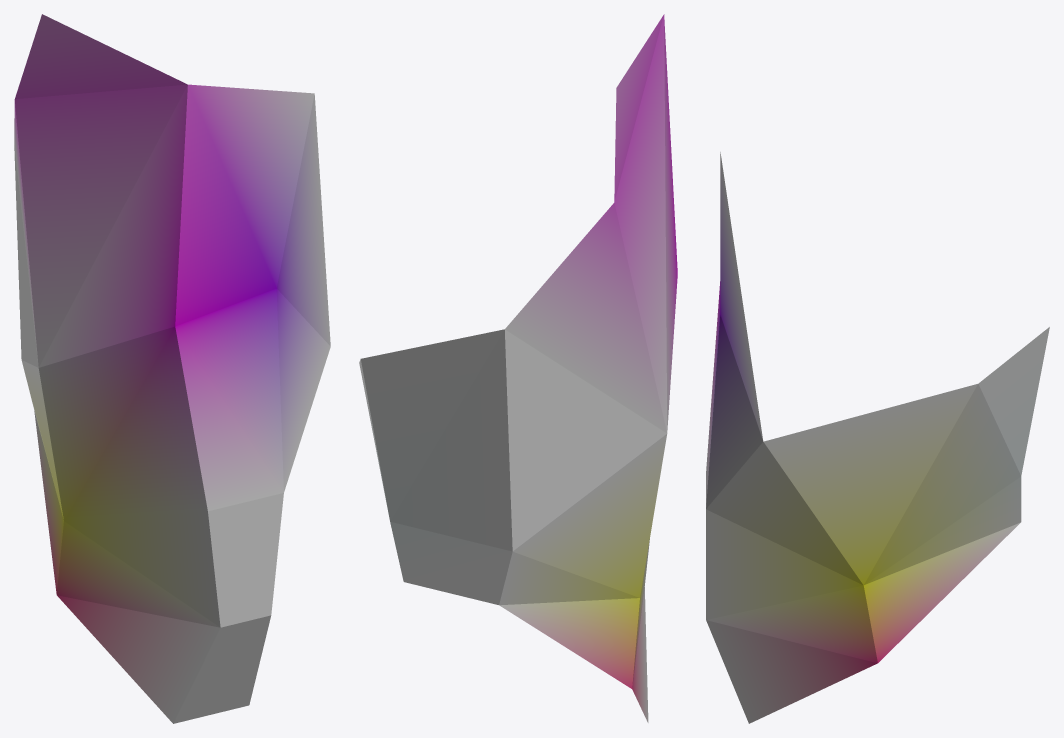
3 renders of one model, left to right at view 1: azimuth 30°, elevation 25°; view 2: azimuth 150°, elevation 25°; view 3: azimuth 270°, elevation 25°, orthographic. The views are drawn at different scales.
Parts seen in each view (by area): view 1: model_111A; view 2: model_111A; view 3: model_111A.
Part boxes in pixels (x1,y1,x2,y2): model_111A: (14,14,330,723); model_111A: (359,14,677,722); model_111A: (706,152,1049,723).
Size of the model in its own units: 19 by 50 by 24.
